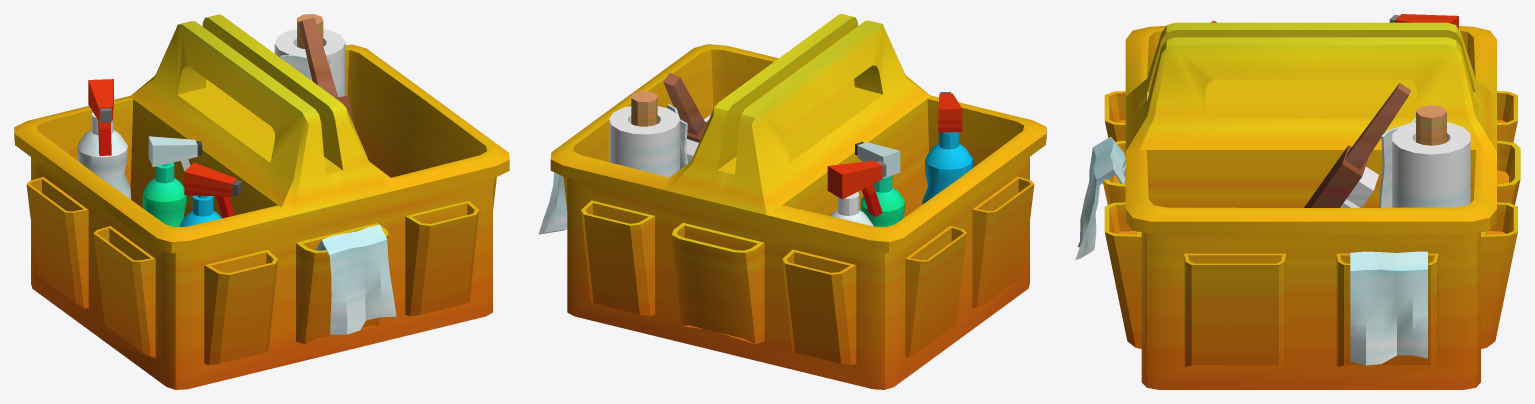
File: Janitor_Caddy.glb
3 renders of one model, left to right at view 1: azimuth 30°, elevation 25°; view 2: azimuth 150°, elevation 25°; view 3: azimuth 270°, elevation 25°, orthographic. The views are drawn at different scales.
Parts seen in each view (by area): view 1: Rag_Blue; view 2: Rag_Blue; view 3: Rag_Blue.
Part boxes in pixels (x1=…): Rag_Blue: x1=14, y1=14, x2=509, y2=389; Rag_Blue: x1=538, y1=14, x2=1046, y2=389; Rag_Blue: x1=1075, y1=14, x2=1520, y2=389.
Bounding box in the file's own units: 0.5615 × 0.3217 × 0.4874.
Materials: 2 (2 with a texture image).
